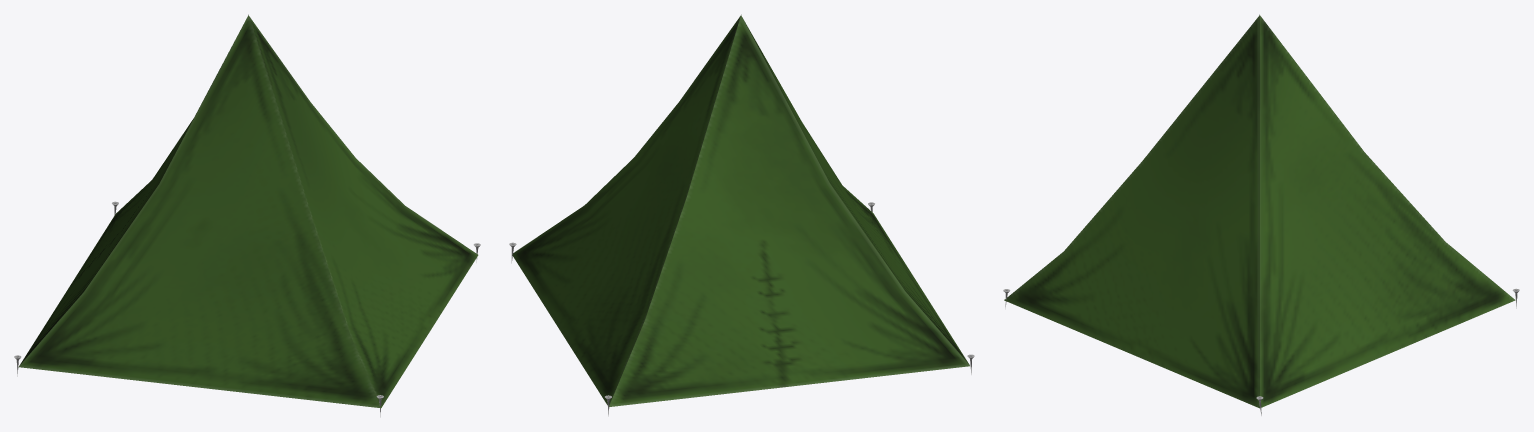
The model's file is tent.fbx.
3 views of the same model, side by side, from view 1: azimuth 30°, elevation 25°; view 2: azimuth 150°, elevation 25°; view 3: azimuth 270°, elevation 25° (orthographic). The views are drawn at different scales.
Parts seen in each view (by area): view 1: pPyramid1; view 2: pPyramid1; view 3: pPyramid1.
Part boxes in pixels (<box>): pPyramid1: <box>18,15,478,408</box>; pPyramid1: <box>512,15,969,406</box>; pPyramid1: <box>1004,15,1515,408</box>.
Size of the model in its own units: 272 by 172 by 271.
